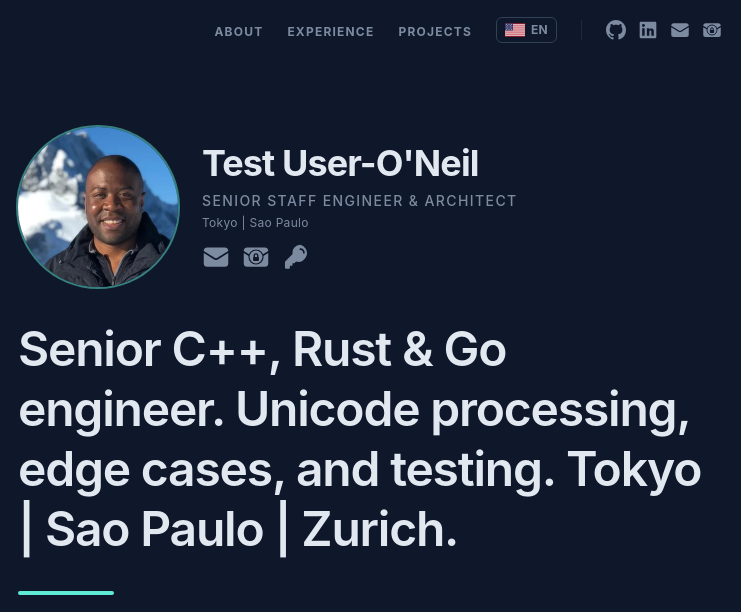
i18n Integration - Language Selector Flow › should switch all content when selecting Hebrew via dropdown
Expected: the link "About" is shown, x1=214 y1=24 x2=263 y2=39
Click the button named "select language" at (526, 30), box x1=496 y1=17 x2=557 y2=43
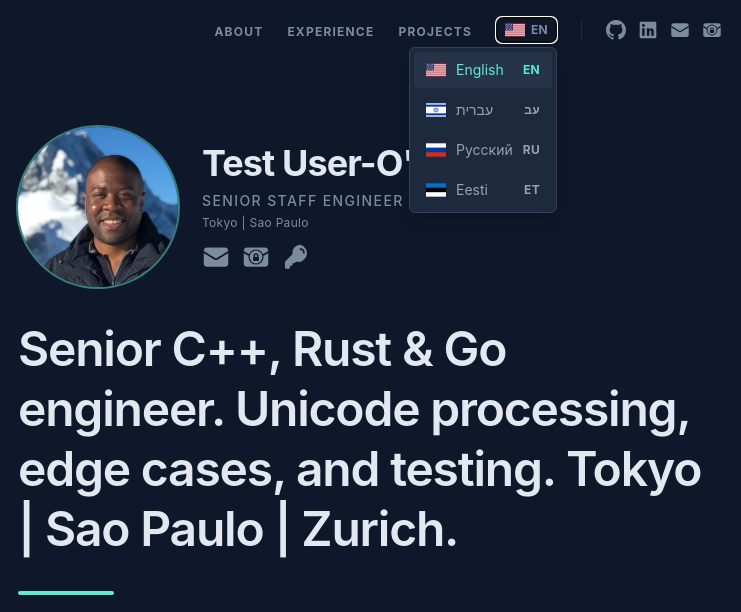
Click the link "עברית עב" at (483, 110), box x1=426 y1=101 x2=540 y2=118
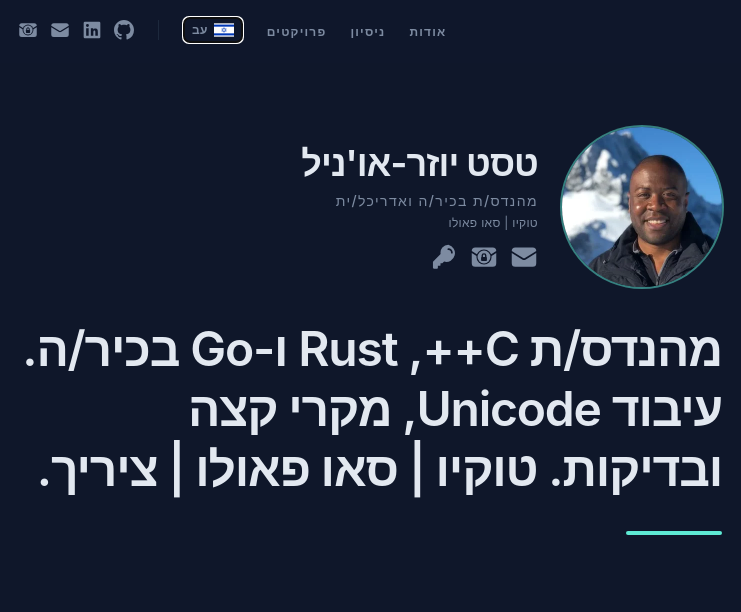
Now the link "אודות" is shown, box x1=409 y1=24 x2=446 y2=39
Now the link "ניסיון" is shown, box x1=350 y1=24 x2=385 y2=39
Now the link "פרויקטים" is shown, box x1=267 y1=24 x2=326 y2=39
